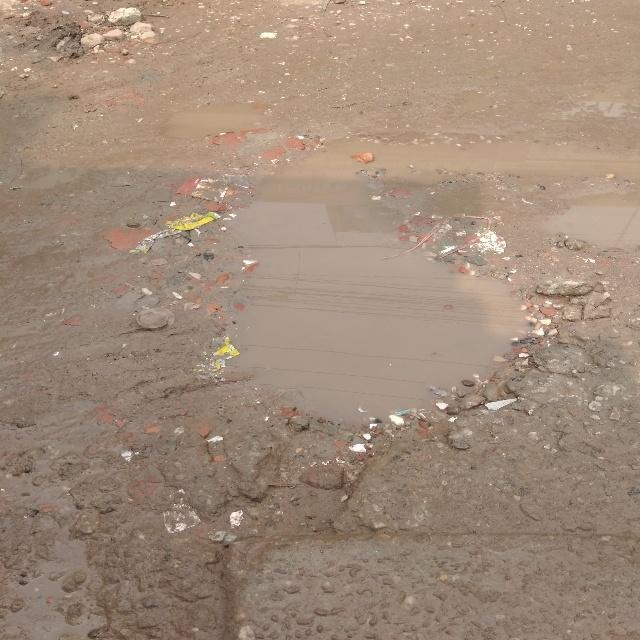Pothole: (207, 186, 473, 396)
Surface Erosion: (8, 12, 614, 640)
